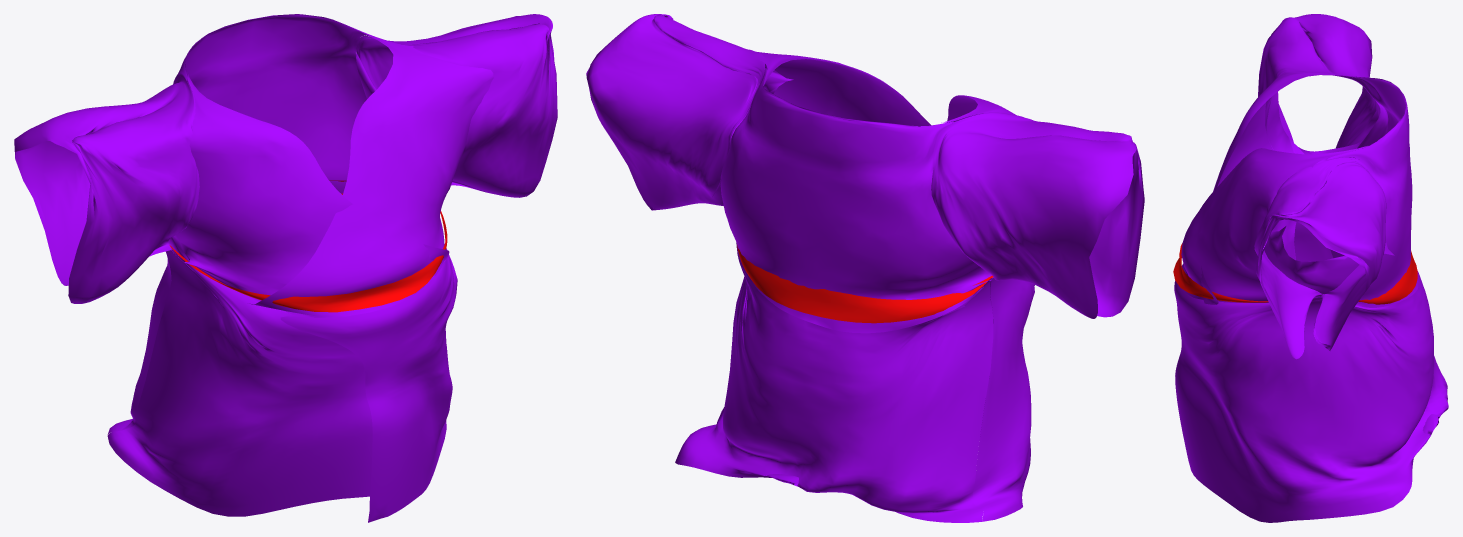
Rendered from Kimono-Purple-Red.glb.
3 renders of one model, left to right at view 1: azimuth 30°, elevation 25°; view 2: azimuth 150°, elevation 25°; view 3: azimuth 270°, elevation 25°, orthographic. The views are drawn at different scales.
Visible parts, largest first — view 1: Kimono-Purple-Red; view 2: Kimono-Purple-Red; view 3: Kimono-Purple-Red.
Part boxes in pixels (x1,y1,x2,y2): Kimono-Purple-Red: [14, 14, 557, 522]; Kimono-Purple-Red: [586, 14, 1144, 522]; Kimono-Purple-Red: [1173, 14, 1448, 522].
Bounding box in the file's own units: 0.6682 × 0.5166 × 0.3458.
2 materials, 2 textured.
